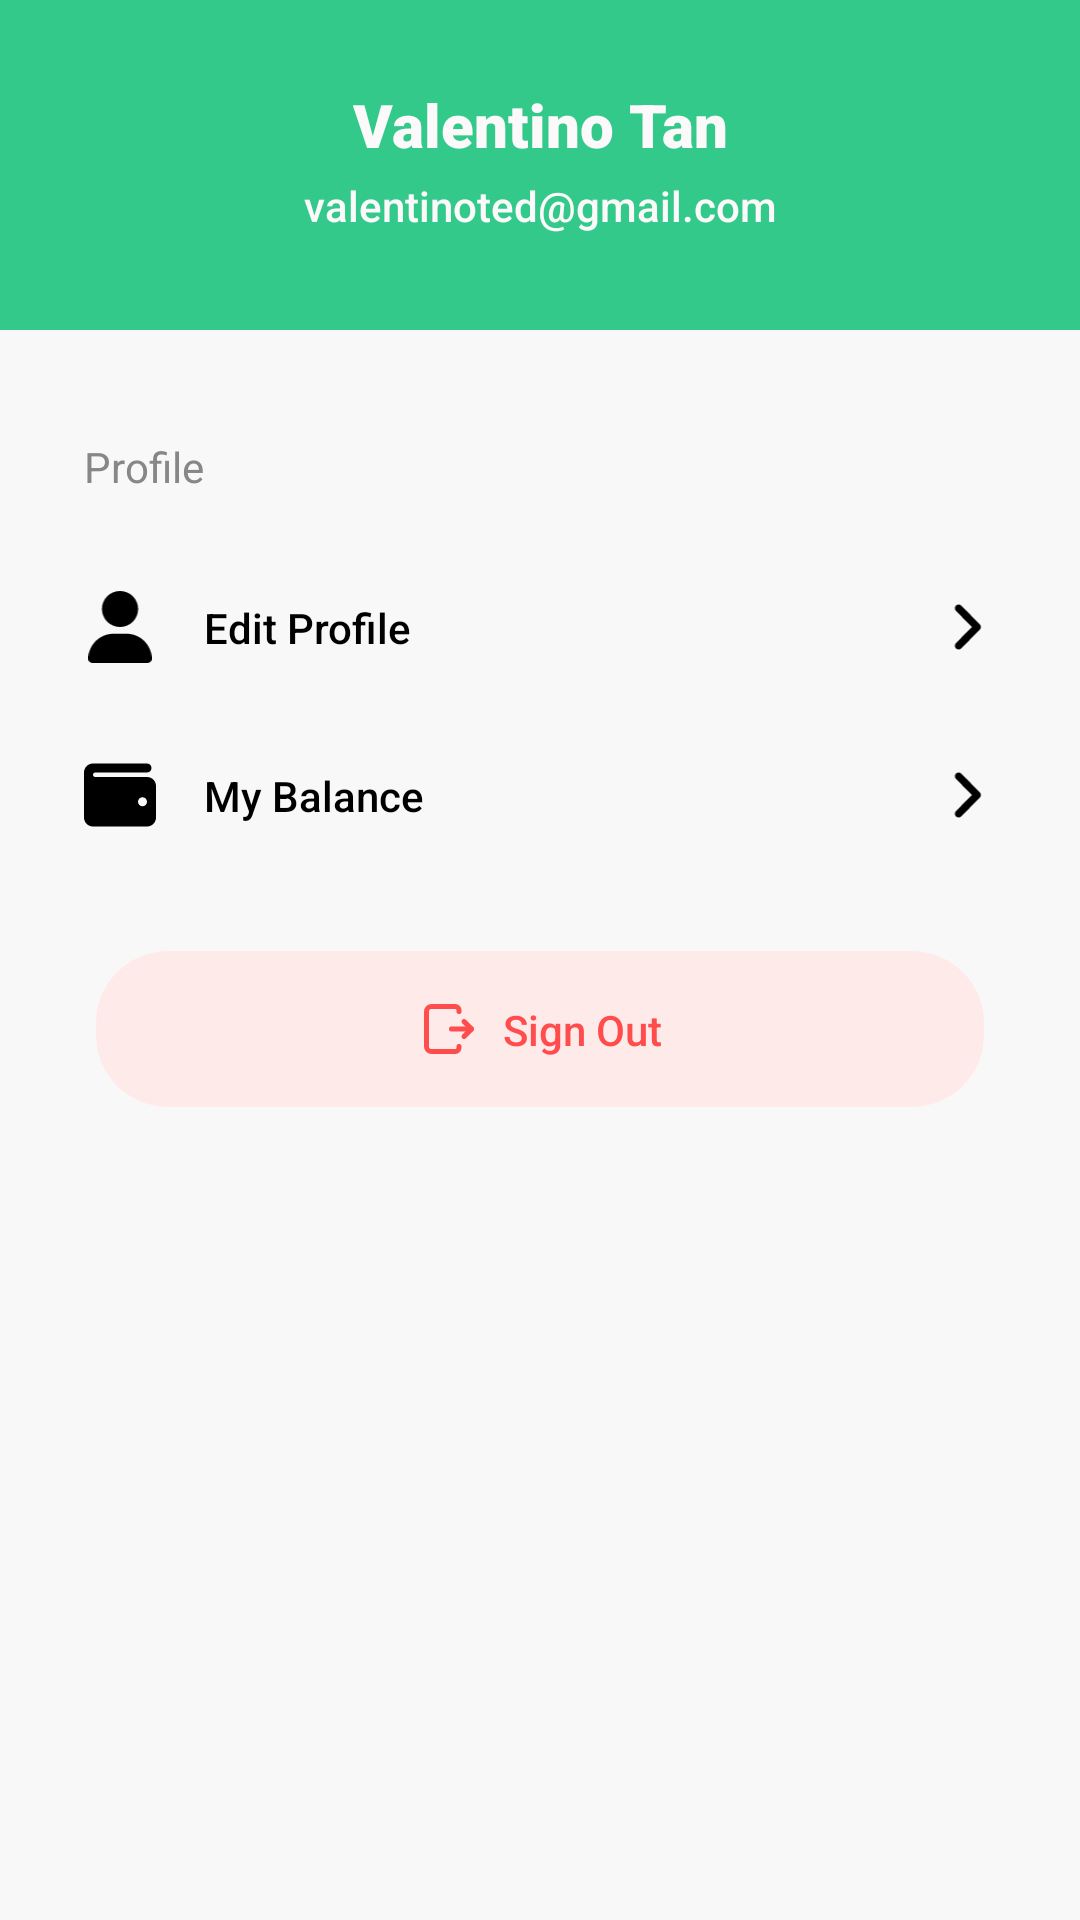

Icons on this 1080 x 1920 Android screen, each with its box as (x1, y1, x2, y2):
angle right: (954, 604, 982, 650), (954, 772, 982, 818)
user: (88, 591, 152, 663)
wallet: (84, 763, 156, 827)
